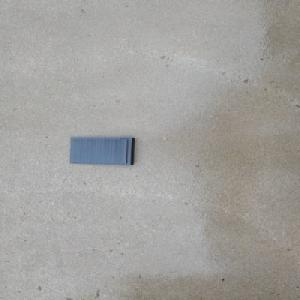PlasticPart: (66, 136, 136, 165)
